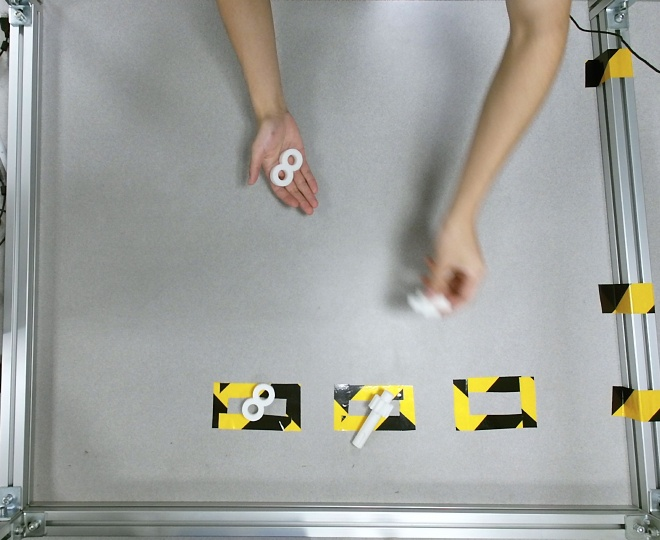stage_1: (271, 148, 302, 186)
